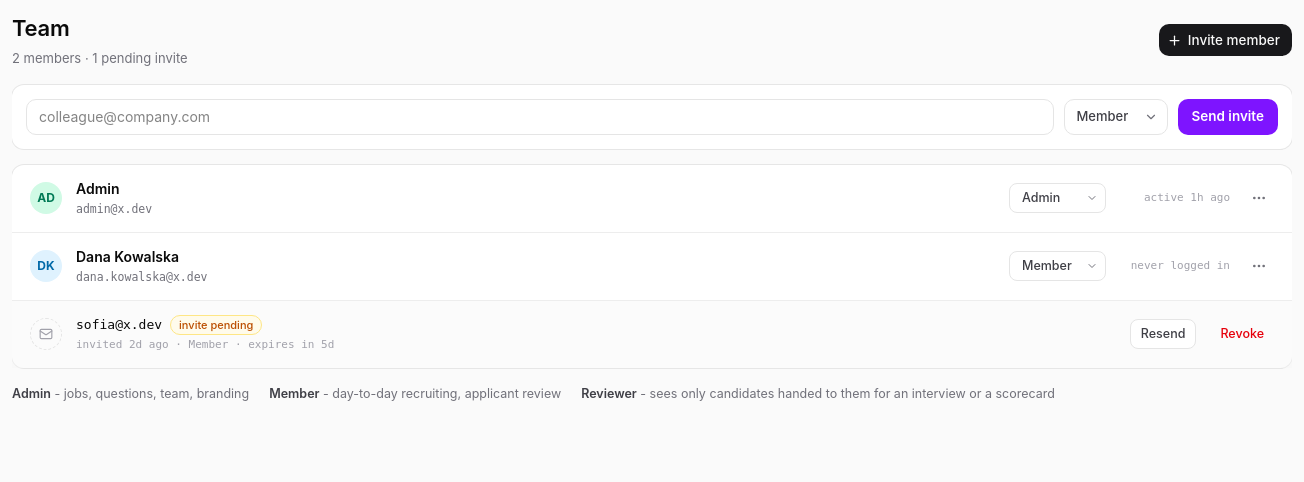
Test: TeamPage › Keep cancels the anonymize confirm
Expected: the text "dana.kowalska@x.dev" is shown, [76, 270, 208, 284]
What coordinates should you click on to do the following:
click the button named "Actions for dana.kowalska@x.dev"
I would click on:
 (1259, 266)
Its box is [1244, 251, 1274, 281].
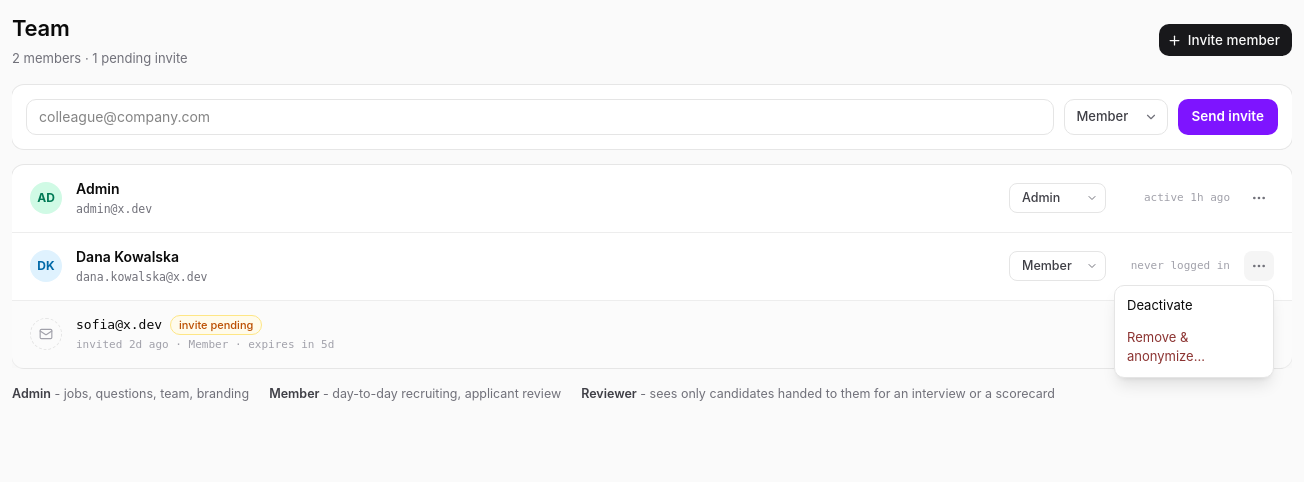
What coordinates should you click on to do the following:
click the menu item "Remove & anonymize…"
I would click on:
 (1166, 346)
Its box is [1127, 328, 1205, 364].
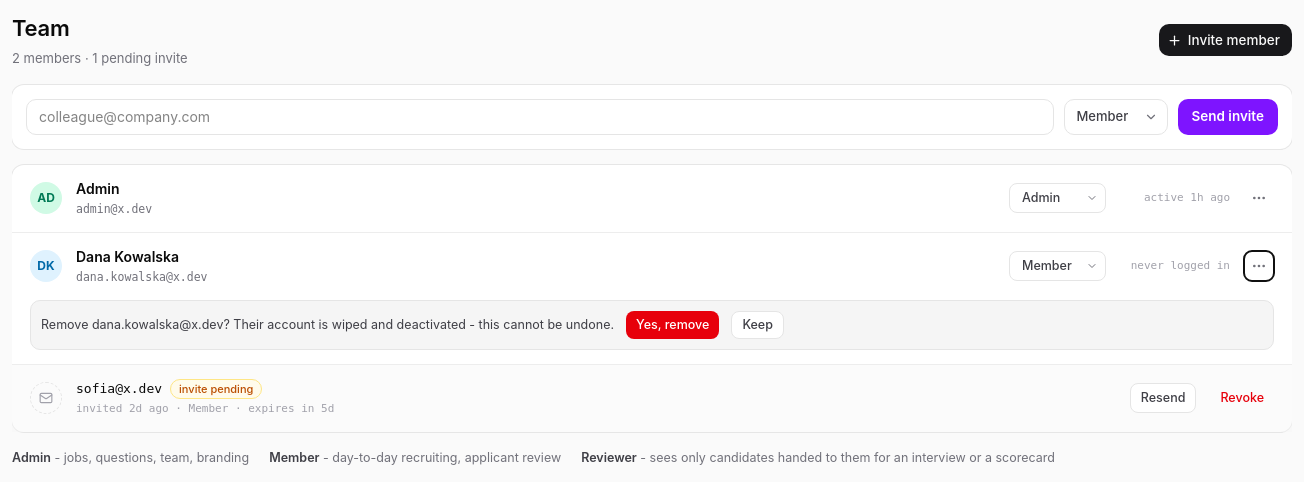
What coordinates should you click on to do the following:
click the button "Keep"
I would click on:
 (758, 325)
Its box is [731, 311, 784, 339].
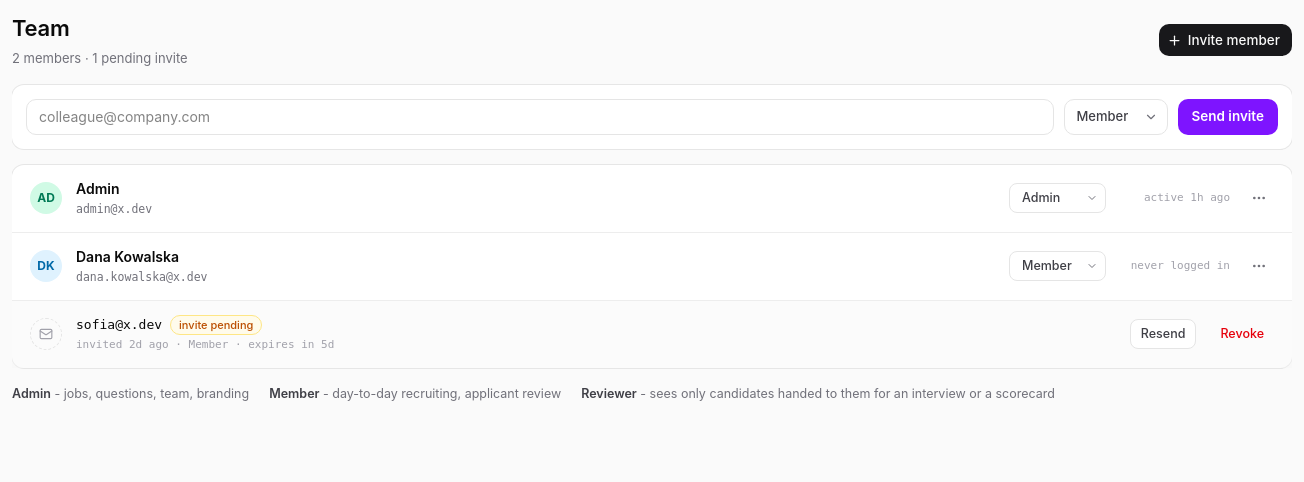
Now the text "account is wiped" is gone
